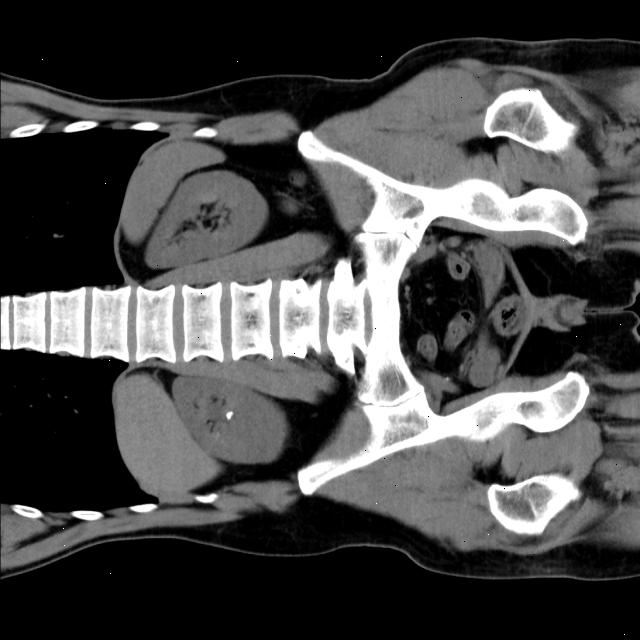kidneystone: (225, 410, 233, 420)
